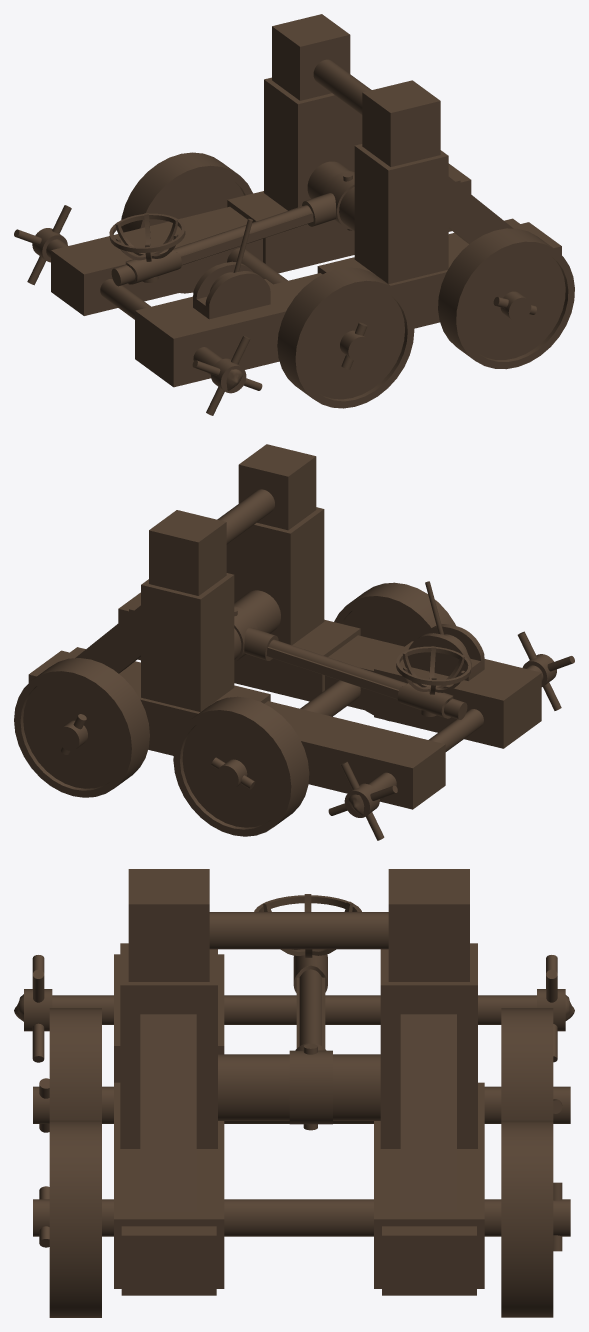
Rendered from catapult.obj.
3 renders of one model, top to bottom at view 1: azimuth 30°, elevation 25°; view 2: azimuth 150°, elevation 25°; view 3: azimuth 270°, elevation 25°, orthographic. The views are drawn at different scales.
Parts seen in each view (by area): view 1: catapult; view 2: catapult; view 3: catapult.
Boxes of the visible parts, bbox=[...] form: catapult: bbox=[14, 14, 574, 415]; catapult: bbox=[14, 444, 574, 840]; catapult: bbox=[14, 869, 574, 1317].
Bounding box in the file's own units: 4571 × 2838 × 3888.
